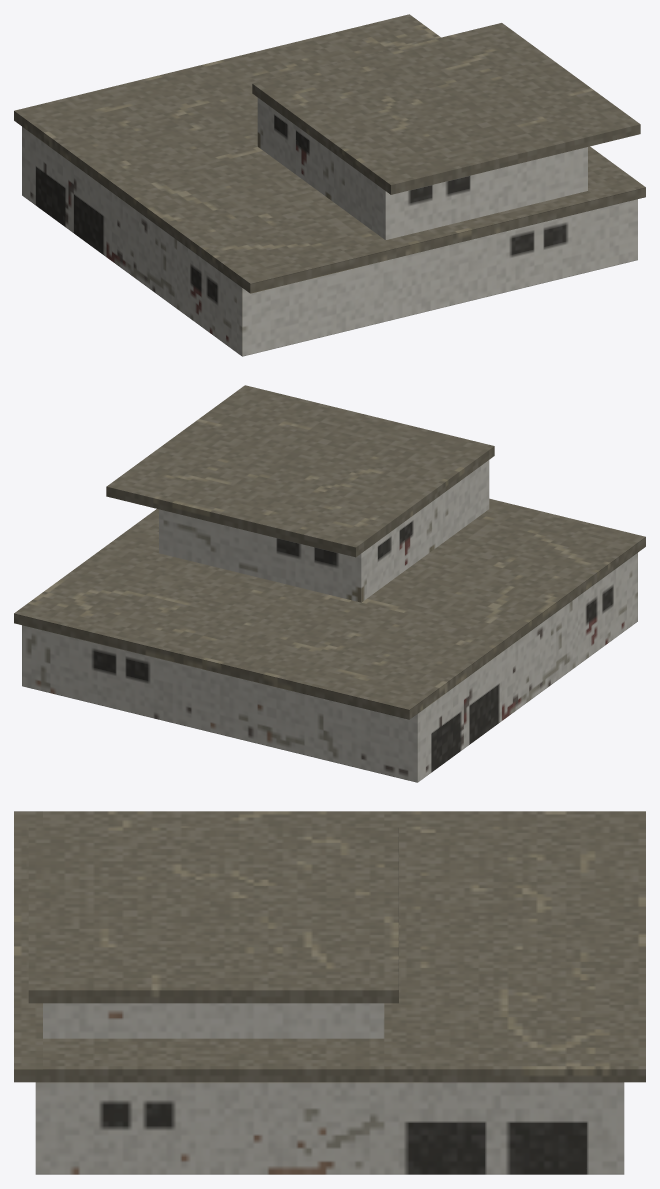
The model's file is buildingB.fbx.
3 renders of one model, top to bottom at view 1: azimuth 30°, elevation 25°; view 2: azimuth 150°, elevation 25°; view 3: azimuth 270°, elevation 25°, orthographic. The views are drawn at different scales.
Parts seen in each view (by area): view 1: BuildingB; view 2: BuildingB; view 3: BuildingB.
Part boxes in pixels (bbox=[...]): BuildingB: bbox=[14, 14, 645, 356]; BuildingB: bbox=[14, 385, 645, 782]; BuildingB: bbox=[14, 811, 645, 1174].
Bounding box in the file's own units: 84 × 28 × 87.
